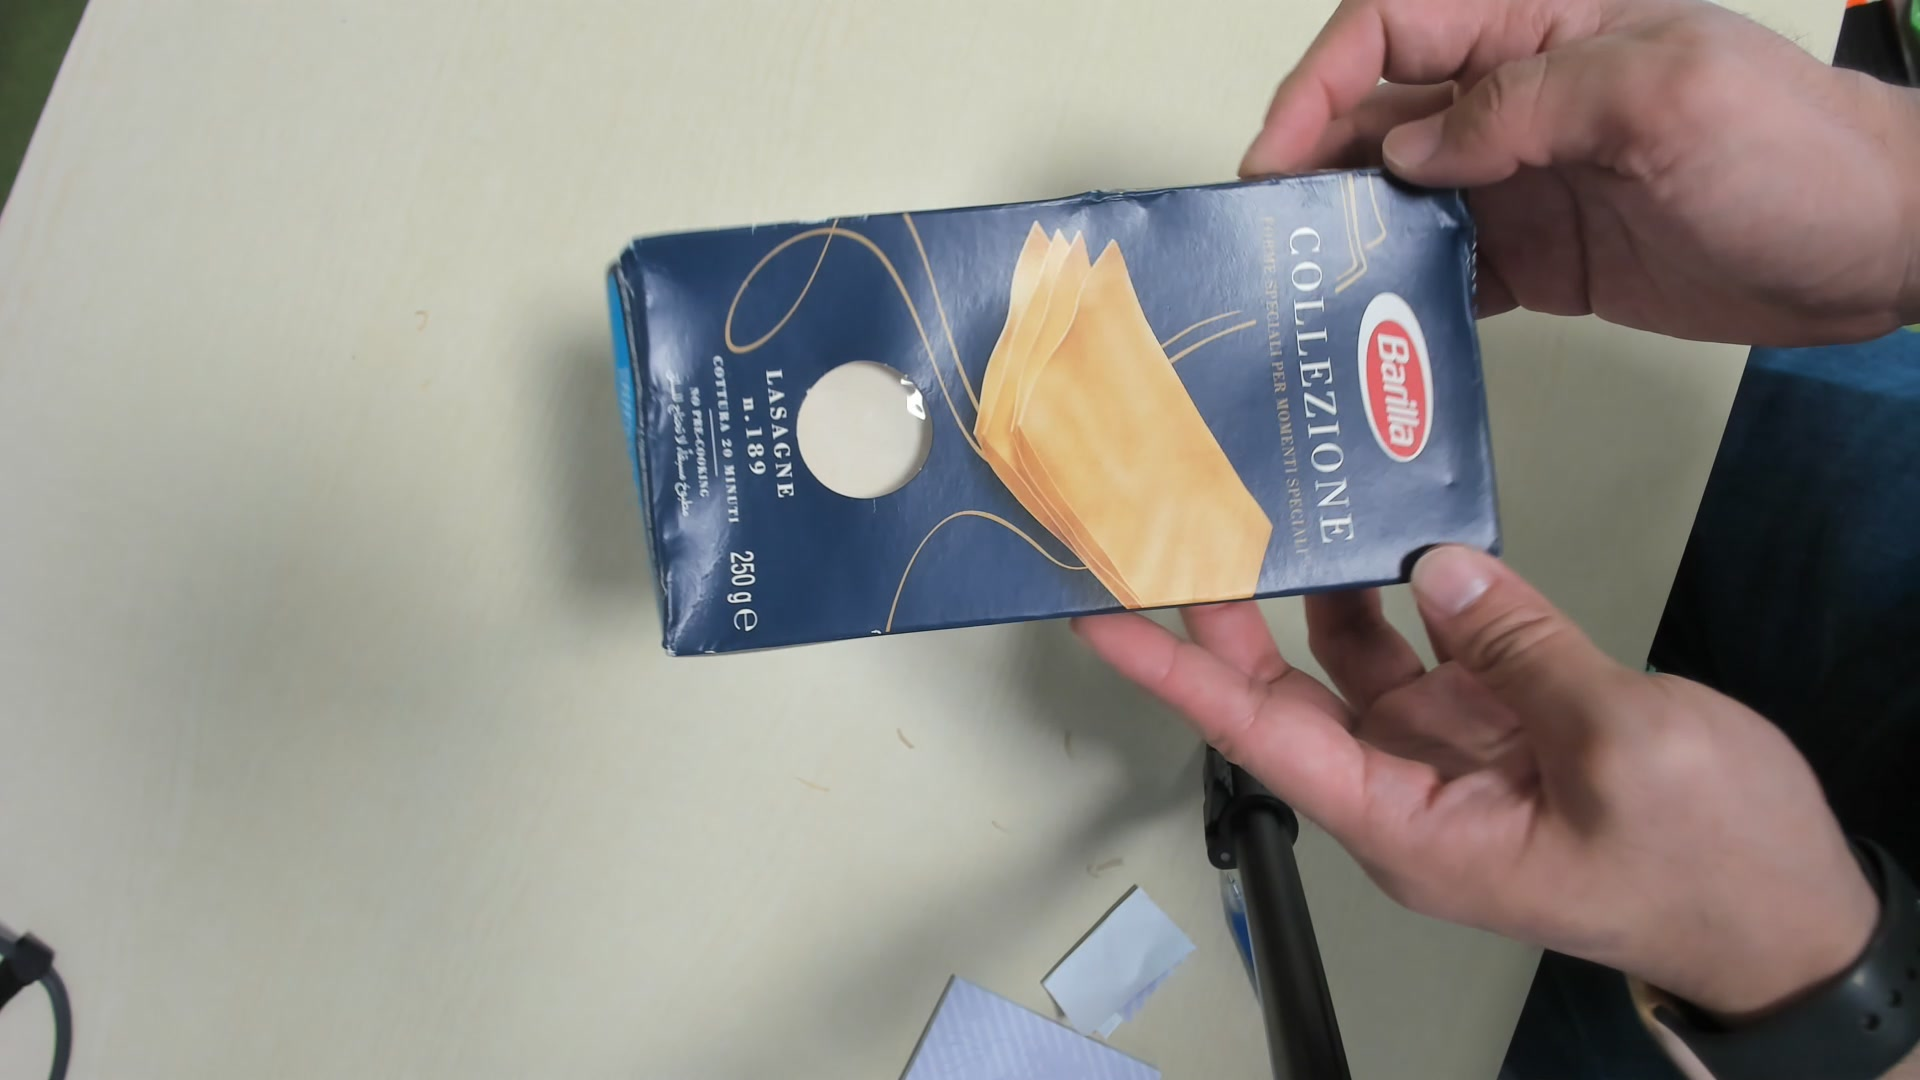InstantMeals_200_299g_NonHalal_NonHealthy: (608, 165, 1509, 670)
